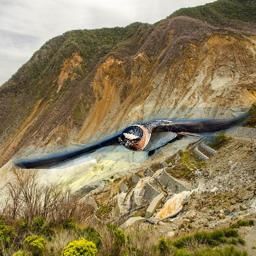Swallow: (12, 107, 250, 169)
